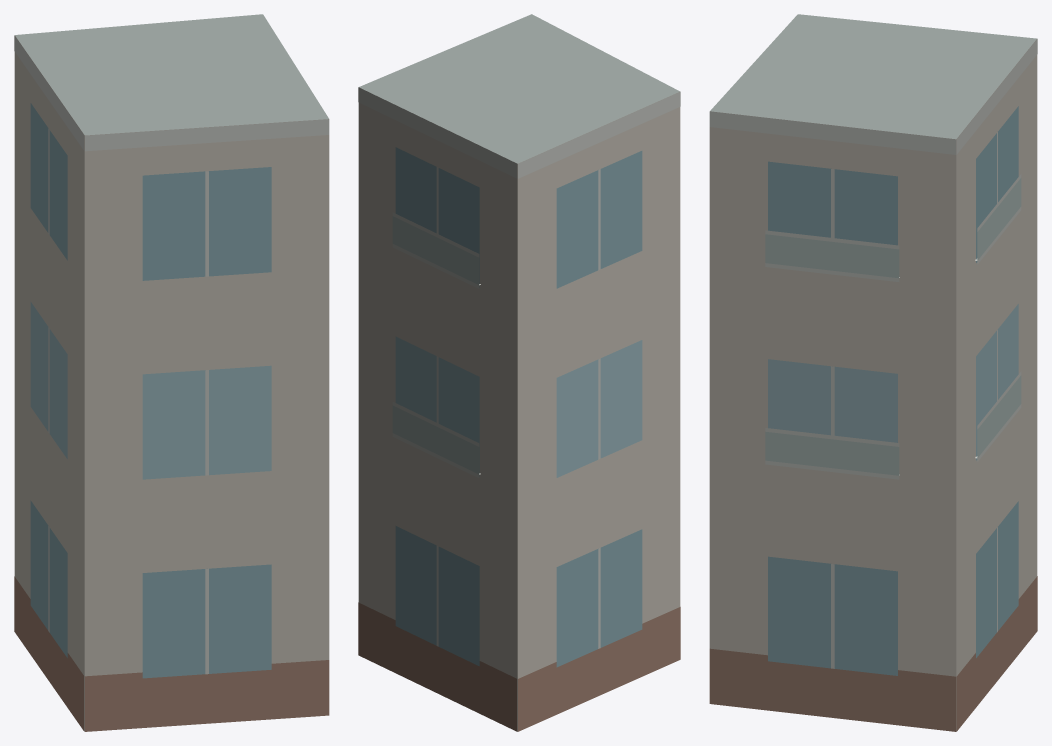
File: survey-upis-32466254.glb
3 renders of one model, left to right at view 1: azimuth 30°, elevation 25°; view 2: azimuth 150°, elevation 25°; view 3: azimuth 270°, elevation 25°, orthographic. The views are drawn at different scales.
Parts seen in each view (by area): view 1: survey-upis-32466254.tmp; view 2: survey-upis-32466254.tmp; view 3: survey-upis-32466254.tmp.
Part boxes in pixels (x1,y1,x2,y2): survey-upis-32466254.tmp: (14,14,329,731); survey-upis-32466254.tmp: (358,14,680,731); survey-upis-32466254.tmp: (709,14,1037,731).
Size of the model in its own units: 4.16 by 9.15 by 4.59.
